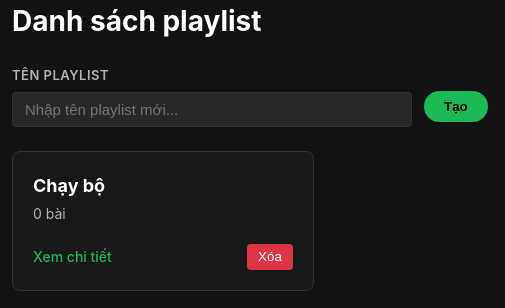
Test: PlaylistsPage component › báo lỗi khi tạo playlist trùng tên (không phân biệt hoa thường)
The width and height of the screenshot is (505, 308).
Type "chạy bộ" into the field labelled "Tên playlist". click: (212,109)
box: [12,92,412,127]
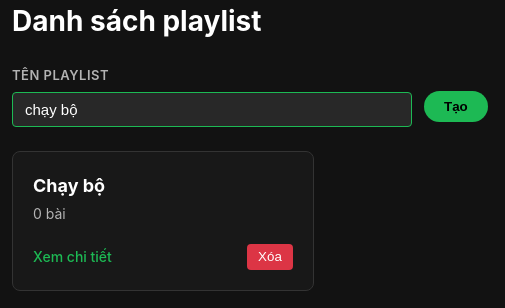
Click the button "Tạo". click: (456,106)
box: [424,91,488,122]
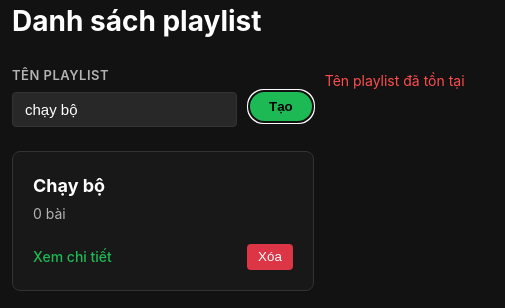
expect the text "Tên playlist đã tồn tại" is shown: met, box [325,72,465,89]
